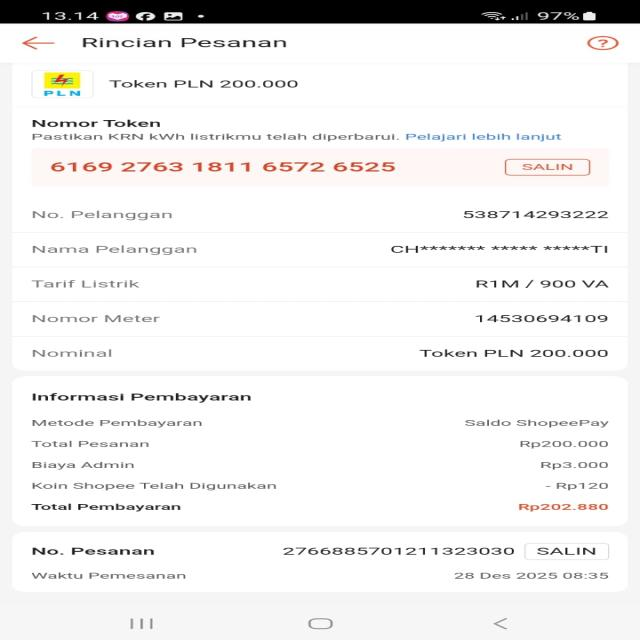date: (444, 566, 612, 584)
store: (107, 72, 306, 97)
total: (26, 502, 614, 514)
